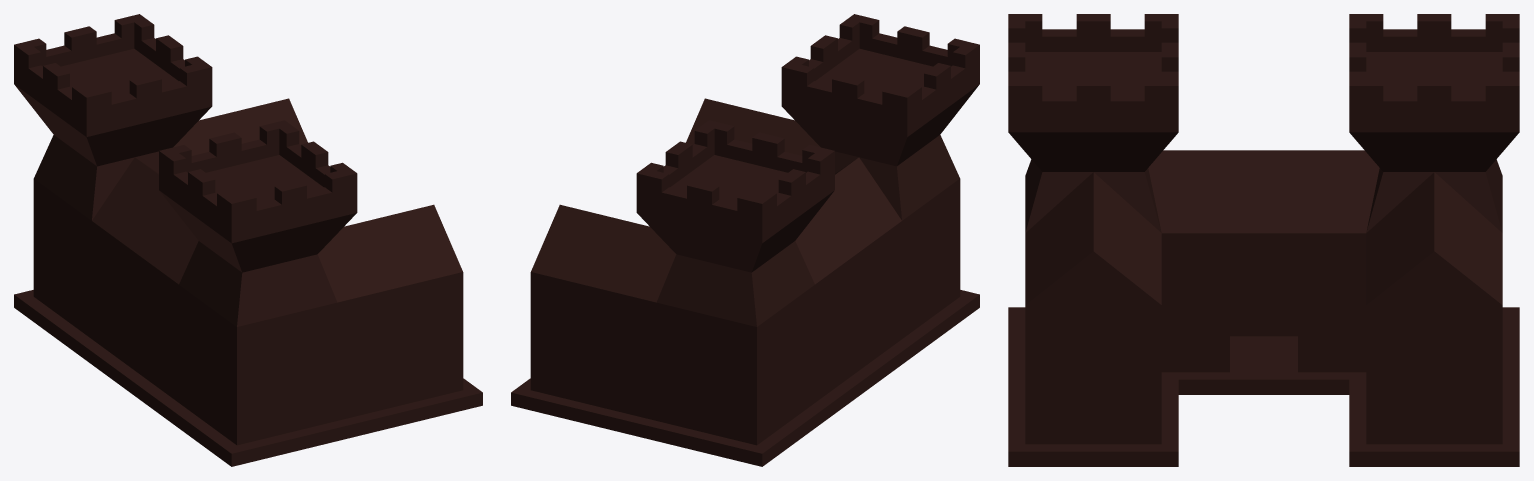
The model's file is Castle.glb.
3 views of the same model, side by side, from view 1: azimuth 30°, elevation 25°; view 2: azimuth 150°, elevation 25°; view 3: azimuth 270°, elevation 25° (orthographic). The views are drawn at different scales.
Parts seen in each view (by area): view 1: 5Castle; view 2: 5Castle; view 3: 5Castle.
Boxes of the visible parts, bbox=[...] form: 5Castle: bbox=[14, 14, 482, 466]; 5Castle: bbox=[511, 14, 979, 466]; 5Castle: bbox=[1008, 14, 1519, 466].
Bounding box in the file's own units: 2 × 2 × 3.
